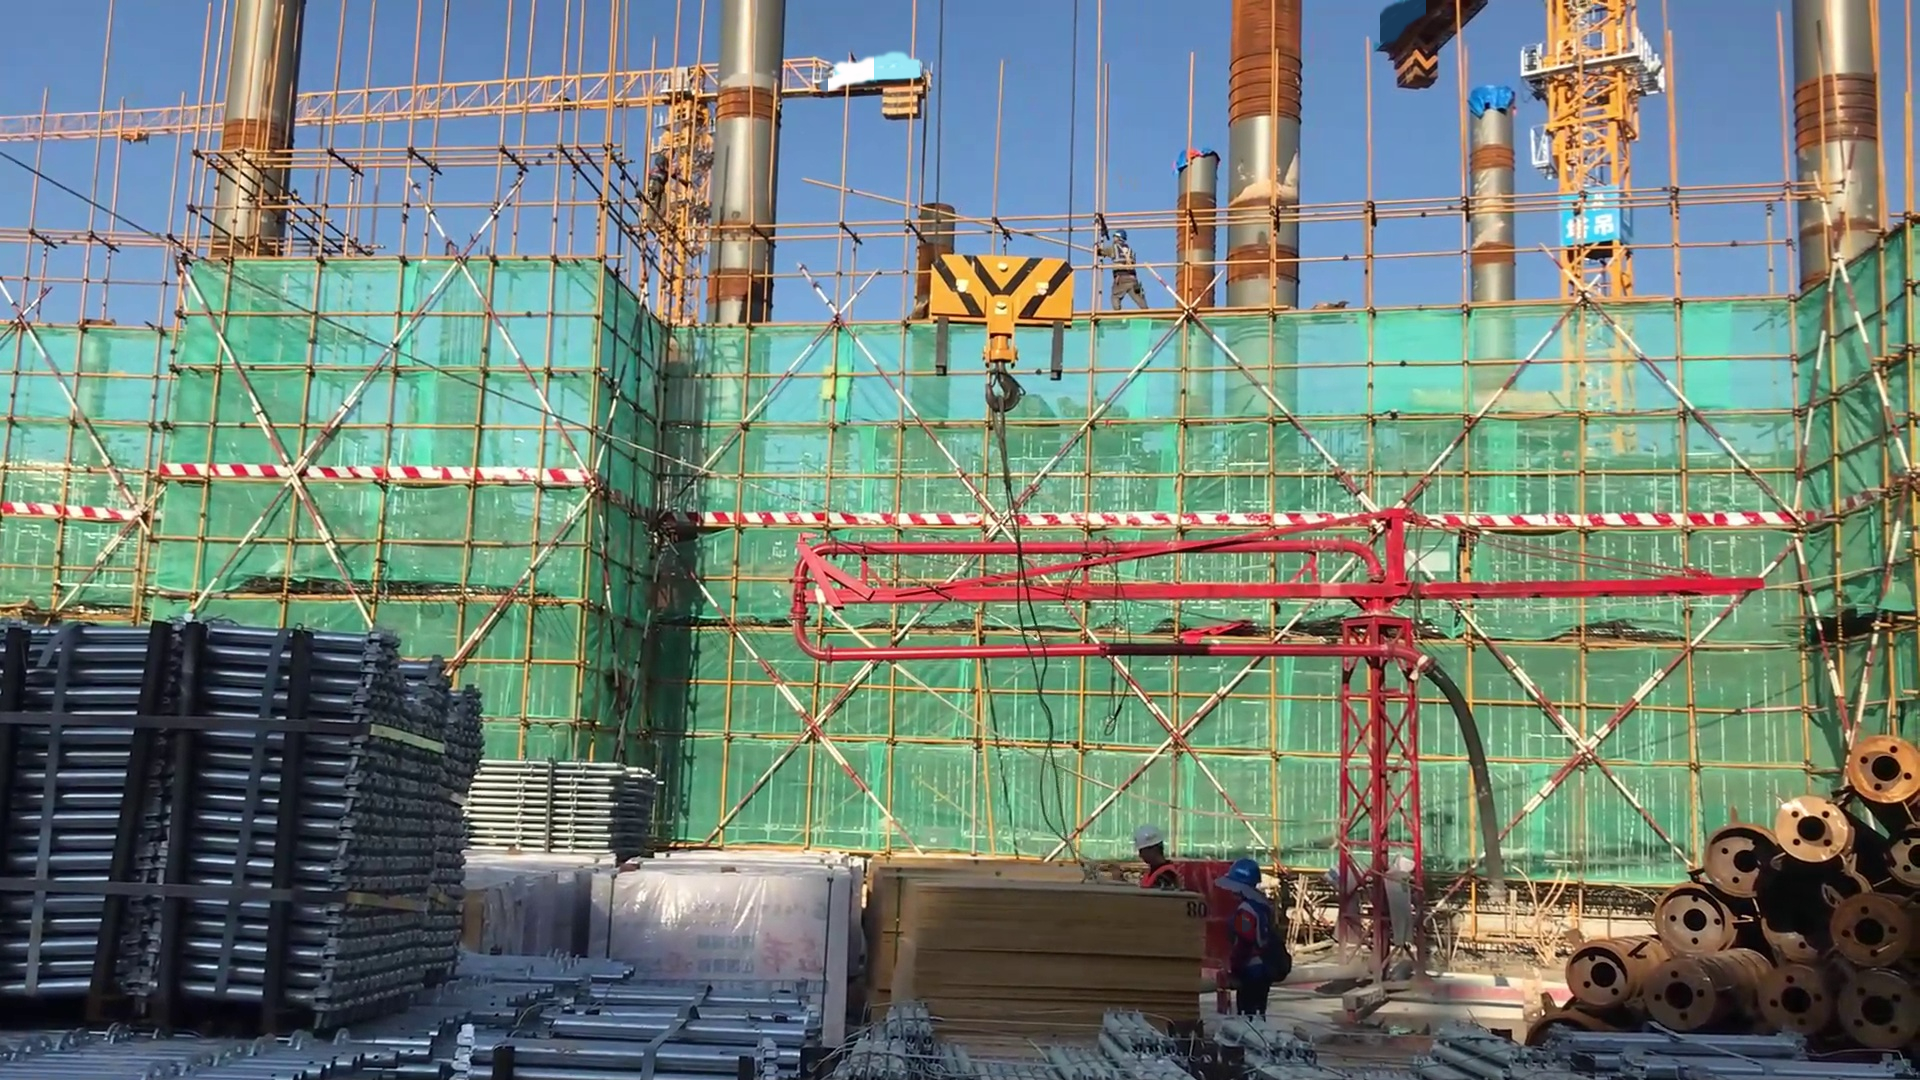board: (862, 859, 1211, 1055)
helmet: (1127, 824, 1169, 854), (1227, 856, 1261, 892), (1108, 227, 1134, 246)
hook: (920, 245, 1106, 446)
person: (1210, 854, 1291, 1035), (1073, 830, 1196, 894), (1085, 213, 1149, 317)
scaffold: (1, 598, 480, 1021), (1, 941, 654, 1077), (452, 971, 827, 1080), (433, 748, 698, 870), (837, 996, 1193, 1080), (1418, 1009, 1837, 1080)
slogan: (1566, 194, 1634, 266)
vest: (1229, 901, 1288, 987), (1137, 865, 1187, 896), (1111, 243, 1137, 271)
